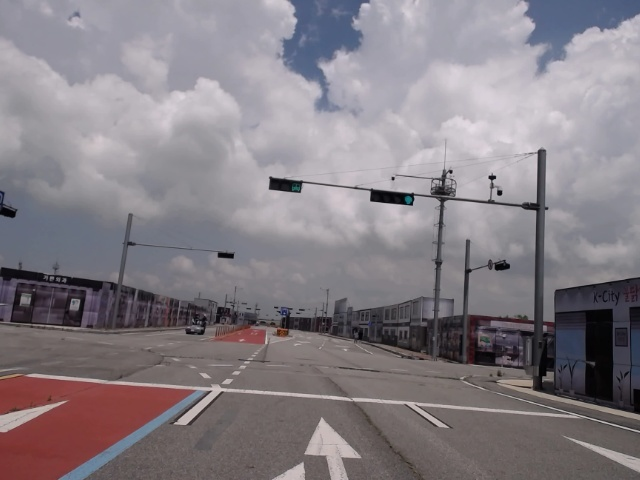straight_green_4: (368, 188, 413, 208)
